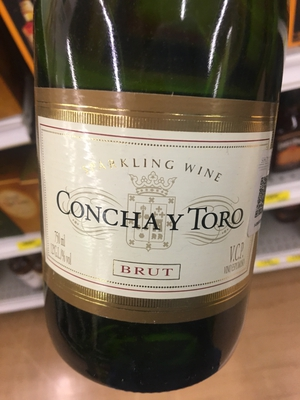brut: (31, 3, 282, 382)
